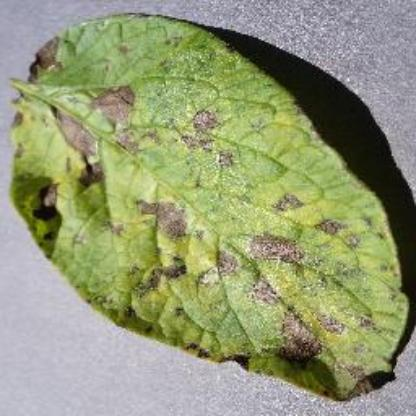Early-Blight: (10, 11, 412, 402)
